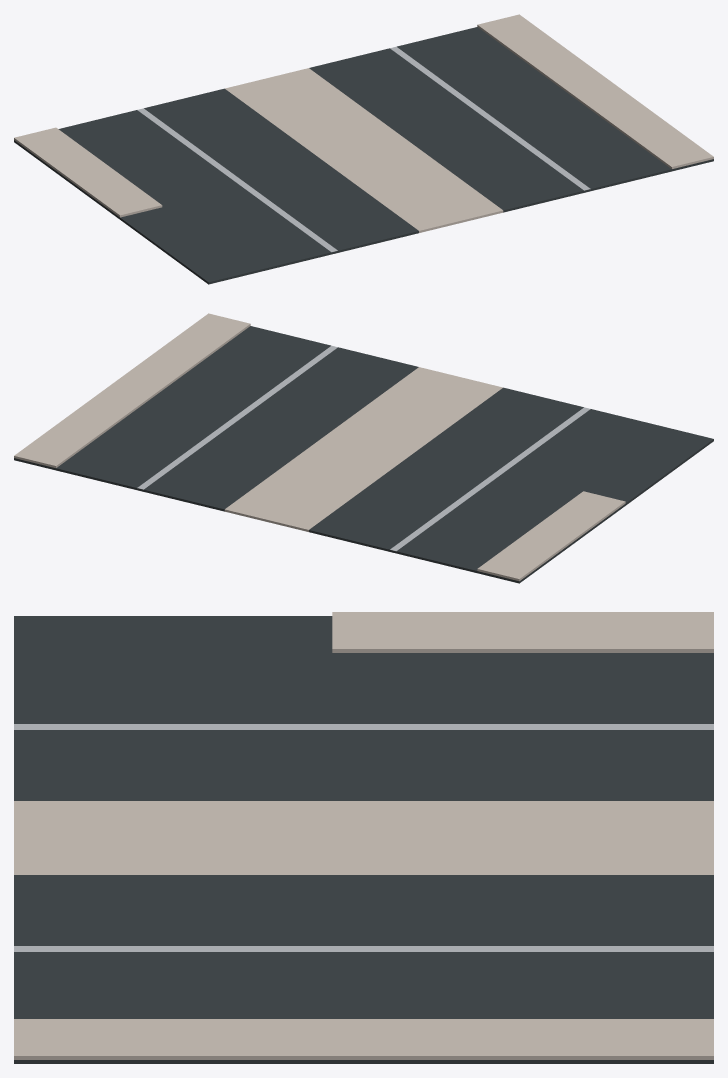
Rendered from SM_road_021.glb.
3 renders of one model, top to bottom at view 1: azimuth 30°, elevation 25°; view 2: azimuth 150°, elevation 25°; view 3: azimuth 270°, elevation 25°, orthographic. The views are drawn at different scales.
Parts seen in each view (by area): view 1: SM_road_021; view 2: SM_road_021; view 3: SM_road_021.
Part boxes in pixels (left/top/right/bottom): SM_road_021: left=14, top=14, right=713, bottom=284; SM_road_021: left=14, top=313, right=713, bottom=583; SM_road_021: left=14, top=612, right=713, bottom=1063.
Bounding box in the file's own units: 12 × 0.1 × 8.
1 material, 1 textured.
